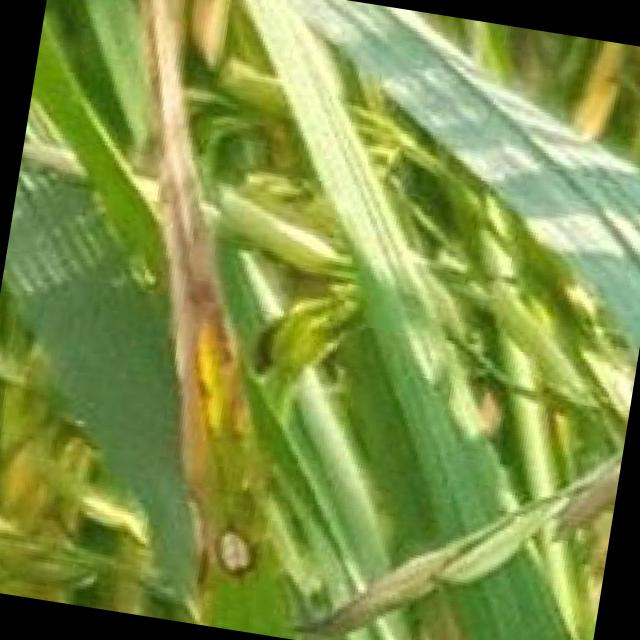Rice_Bacterial_Blight: (22, 0, 349, 573)
